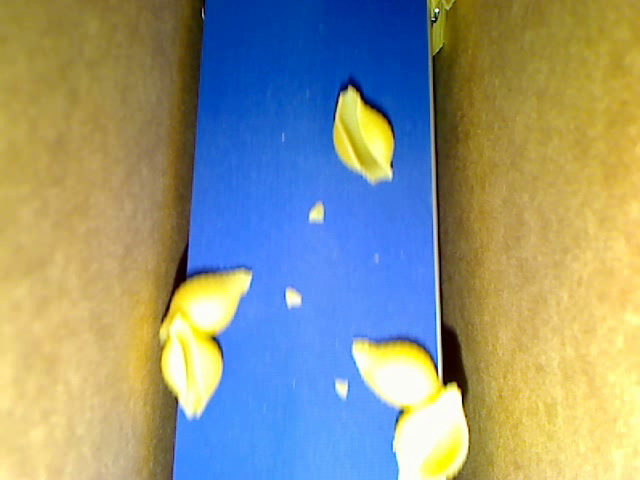penne: (431, 1, 445, 56), (442, 1, 453, 10)
shell: (351, 333, 446, 412), (160, 265, 250, 346), (158, 310, 225, 418), (393, 379, 464, 479), (329, 81, 394, 182)
